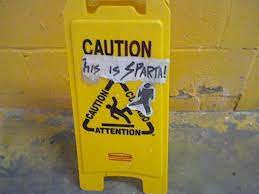wet caution sign: (68, 4, 172, 194)
